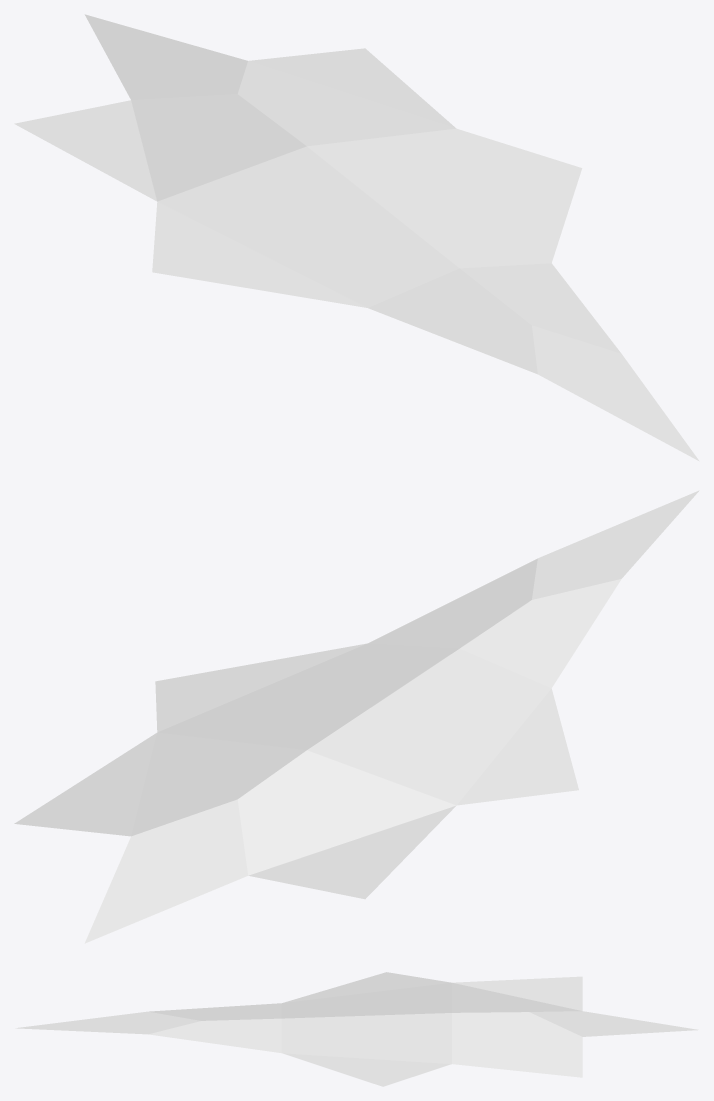
Rendered from Pine_Spikes_OneSided_Snow_01.fbx.
3 renders of one model, top to bottom at view 1: azimuth 30°, elevation 25°; view 2: azimuth 150°, elevation 25°; view 3: azimuth 270°, elevation 25°, orthographic. The views are drawn at different scales.
Parts seen in each view (by area): view 1: Pine_Spikes_OneSided_Snow_01; view 2: Pine_Spikes_OneSided_Snow_01; view 3: Pine_Spikes_OneSided_Snow_01.
Boxes of the visible parts, <box> form: Pine_Spikes_OneSided_Snow_01: <box>14,14,699,461</box>; Pine_Spikes_OneSided_Snow_01: <box>14,490,699,943</box>; Pine_Spikes_OneSided_Snow_01: <box>15,972,698,1086</box>.
Size of the model in its own units: 113 by 8.19 by 282.
